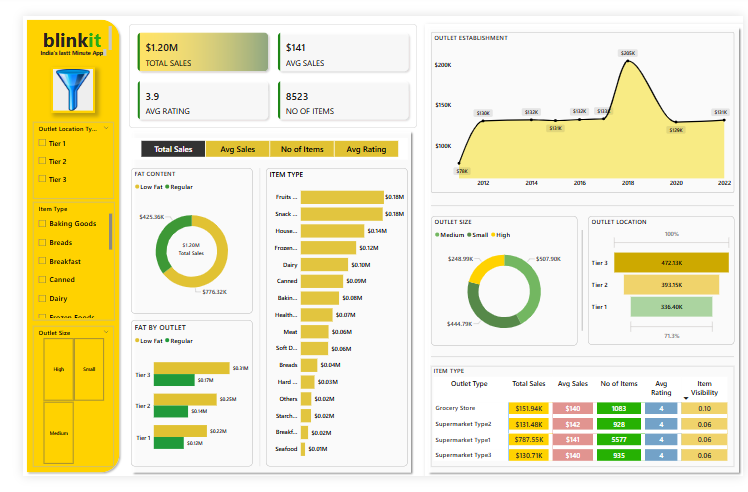

Layout of this report page (visuals, bound fields, positions):
{"tool":"powerbi","page":{"name":"Page 1","canvas":[1800,1150],"ordinal":0},"visuals":[{"type":"shape","box":[0,0,250,1150],"z":0},{"type":"textbox","box":[38,78,176,28],"z":2000},{"type":"textbox","box":[24,20,202,72],"z":3000},{"type":"cardVisual","fields":{"Data":["BlinkIT Grocery Data.Total Sales","BlinkIT Grocery Data.Avg Sales","BlinkIT Grocery Data.Avg Rating","BlinkIT Grocery Data.No of Items"]},"box":[264,20,720,260],"z":4000},{"type":"shape","box":[264,280,714,870],"z":5000},{"type":"donutChart","title":"FAT CONTENT","fields":{"Y":["BlinkIT Grocery Data.Total Sales"],"Category":["BlinkIT Grocery Data.Item Fat Content"]},"box":[270,380,304,364],"z":6000},{"type":"slicer","fields":{"Values":["Metrics.Metrics"]},"box":[270,306,692,54],"z":7000},{"type":"cardVisual","fields":{"Data":["BlinkIT Grocery Data.Total Sales"]},"box":[368,536,106,94],"z":8000},{"type":"clusteredBarChart","title":"FAT BY OUTLET","fields":{"Y":["BlinkIT Grocery Data.Total Sales"],"Category":["BlinkIT Grocery Data.Outlet Location Type"],"Series":["BlinkIT Grocery Data.Item Fat Content"]},"box":[270,760,304,366],"z":9000},{"type":"shape","box":[574,380,34,746],"z":9001},{"type":"barChart","title":"ITEM TYPE","fields":{"Category":["BlinkIT Grocery Data.Item Type"],"Y":["BlinkIT Grocery Data.Total Sales"]},"box":[608,380,354,746],"z":9002},{"type":"shape","box":[1006,20,794,1130],"z":9003},{"type":"lineChart","title":"OUTLET ESTABLISHMENT","fields":{"Y":["BlinkIT Grocery Data.Total Sales"],"Category":["BlinkIT Grocery Data.Outlet Establishment Year"]},"box":[1020,40,758,402],"z":9004},{"type":"shape","box":[1020,464,758,18],"z":9005},{"type":"donutChart","title":"OUTLET SIZE","fields":{"Y":["BlinkIT Grocery Data.Total Sales"],"Category":["BlinkIT Grocery Data.Outlet Size"]},"box":[1020,500,366,324],"z":9006},{"type":"shape","box":[1386,536,26,252],"z":9007},{"type":"funnel","title":"OUTLET LOCATION","fields":{"Y":["Sum(BlinkIT Grocery Data.Sales)"],"Category":["BlinkIT Grocery Data.Outlet Location Type"]},"box":[1412,500,366,322],"z":9008},{"type":"shape","box":[1020,842,758,18],"z":9009},{"type":"pivotTable","title":"ITEM TYPE","fields":{"Rows":["BlinkIT Grocery Data.Outlet Type"],"Values":["BlinkIT Grocery Data.Total Sales","BlinkIT Grocery Data.Avg Sales","BlinkIT Grocery Data.No of Items","BlinkIT Grocery Data.Avg Rating","Avg(BlinkIT Grocery Data.Item Visibility)"]},"box":[1020,874,758,252],"z":9010},{"type":"slicer","fields":{"Values":["BlinkIT Grocery Data.Outlet Location Type"]},"box":[24,264,202,192],"z":9011},{"type":"slicer","fields":{"Values":["BlinkIT Grocery Data.Outlet Size"]},"box":[24,774,202,352],"z":9012},{"type":"slicer","fields":{"Values":["BlinkIT Grocery Data.Item Type"]},"box":[24,464,204,296],"z":9013},{"type":"image","box":[70,128,110,114],"z":9014}]}

Visuals, with their boxes in screenshot pixels (x1, y1, x2, y2), scaled from the page's 1800x1150 canvas onto the 748x492 screenshot:
shape: left=0, top=0, right=104, bottom=491
textbox: left=16, top=33, right=89, bottom=45
textbox: left=10, top=9, right=94, bottom=39
cardVisual - BlinkIT Grocery Data.Total Sales x BlinkIT Grocery Data.Avg Sales: left=110, top=9, right=409, bottom=120
shape: left=110, top=120, right=406, bottom=491
"FAT CONTENT" donutChart: left=112, top=163, right=239, bottom=318
slicer - Metrics.Metrics: left=112, top=131, right=400, bottom=154
cardVisual - BlinkIT Grocery Data.Total Sales: left=153, top=229, right=197, bottom=270
"FAT BY OUTLET" clusteredBarChart: left=112, top=325, right=239, bottom=482
shape: left=239, top=163, right=253, bottom=482
"ITEM TYPE" barChart: left=253, top=163, right=400, bottom=482
shape: left=418, top=9, right=747, bottom=491
"OUTLET ESTABLISHMENT" lineChart: left=424, top=17, right=739, bottom=189
shape: left=424, top=199, right=739, bottom=206
"OUTLET SIZE" donutChart: left=424, top=214, right=576, bottom=353
shape: left=576, top=229, right=587, bottom=337
"OUTLET LOCATION" funnel: left=587, top=214, right=739, bottom=352
shape: left=424, top=360, right=739, bottom=368
"ITEM TYPE" pivotTable: left=424, top=374, right=739, bottom=482
slicer - BlinkIT Grocery Data.Outlet Location Type: left=10, top=113, right=94, bottom=195
slicer - BlinkIT Grocery Data.Outlet Size: left=10, top=331, right=94, bottom=482
slicer - BlinkIT Grocery Data.Item Type: left=10, top=199, right=95, bottom=325
image: left=29, top=55, right=75, bottom=104
